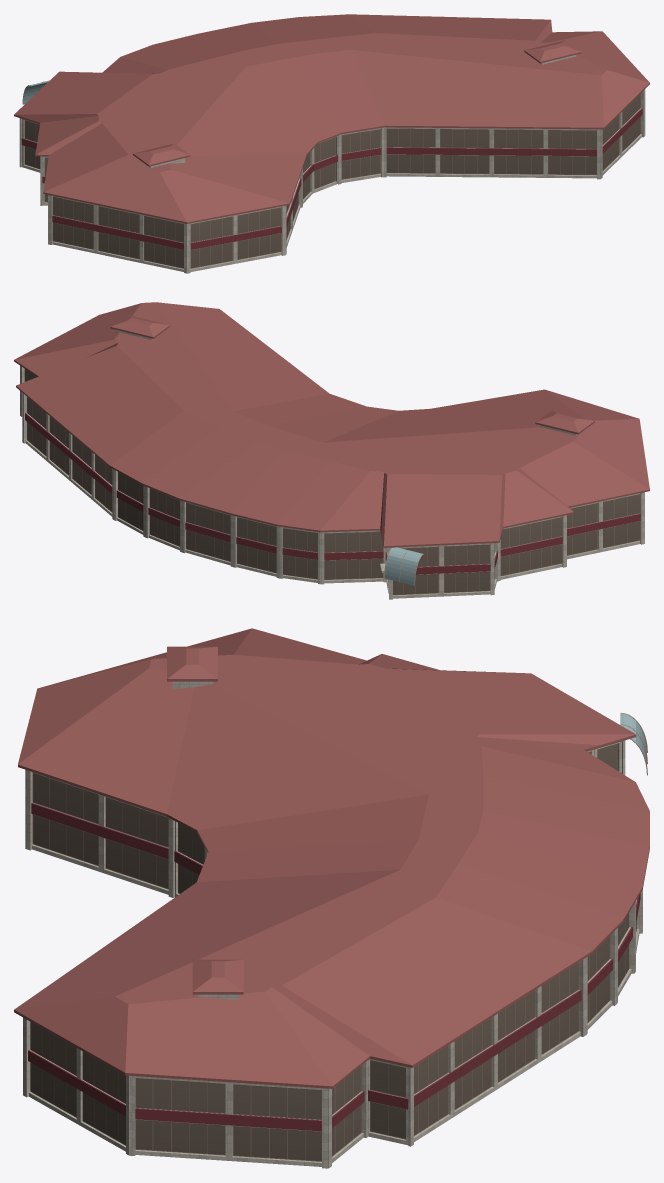
The picture shows the model from 3 angles, top to bottom: view 1: azimuth 30°, elevation 25°; view 2: azimuth 150°, elevation 25°; view 3: azimuth 270°, elevation 25°; orthographic projection. The views are drawn at different scales.
Visible parts, largest first — view 1: osm136173360__roof, osm136173360__glass, osm136173360__stone, osm136173360__burgundy, osm136173360__frame; view 2: osm136173360__roof, osm136173360__glass, osm136173360__stone, osm136173360__burgundy, osm136173360__frame, osm136173360__glassCore; view 3: osm136173360__roof, osm136173360__glass, osm136173360__stone, osm136173360__burgundy, osm136173360__frame.
Boxes of the visible parts, x1=… form: osm136173360__roof: x1=14, y1=14, x2=649, y2=223; osm136173360__glass: x1=25, y1=94, x2=640, y2=268; osm136173360__stone: x1=19, y1=55, x2=645, y2=273; osm136173360__burgundy: x1=21, y1=108, x2=642, y2=249; osm136173360__frame: x1=24, y1=93, x2=640, y2=268; osm136173360__roof: x1=14, y1=302, x2=649, y2=547; osm136173360__glass: x1=25, y1=369, x2=639, y2=594; osm136173360__stone: x1=20, y1=330, x2=644, y2=599; osm136173360__burgundy: x1=25, y1=413, x2=640, y2=574; osm136173360__frame: x1=24, y1=369, x2=640, y2=595; osm136173360__glassCore: x1=384, y1=547, x2=422, y2=585; osm136173360__roof: x1=14, y1=628, x2=649, y2=1088; osm136173360__glass: x1=30, y1=744, x2=636, y2=1161; osm136173360__stone: x1=23, y1=681, x2=642, y2=1168; osm136173360__burgundy: x1=28, y1=773, x2=640, y2=1131; osm136173360__frame: x1=30, y1=744, x2=636, y2=1161.
Size of the model in its own units: 84.9 by 11.72 by 49.82.
Materials: 7 (3 with a texture image).
